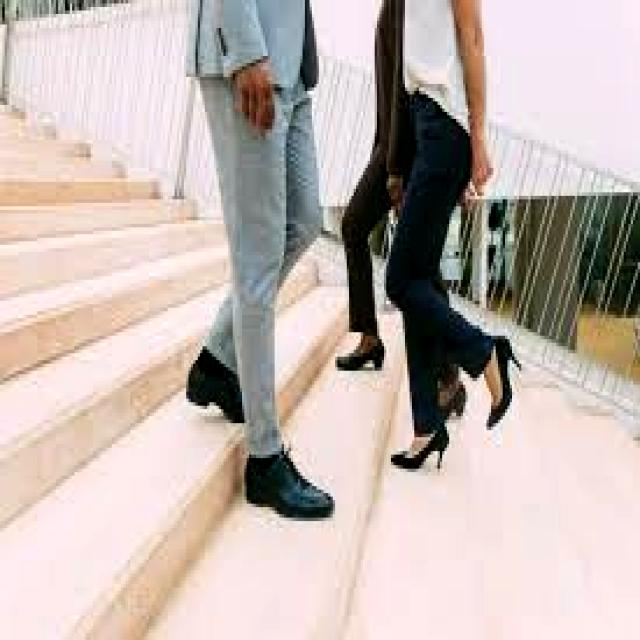foot-wear: (246, 447, 334, 520), (187, 348, 248, 425)
